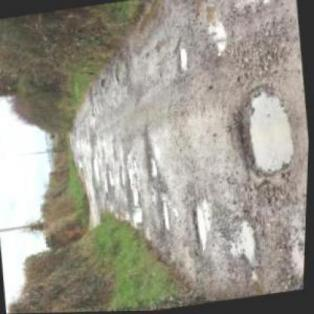Hueco: (230, 82, 300, 181), (198, 4, 229, 62), (229, 217, 261, 271), (138, 127, 162, 185), (190, 204, 211, 254), (172, 38, 190, 74), (235, 0, 281, 14), (130, 208, 146, 228), (105, 165, 116, 194)
